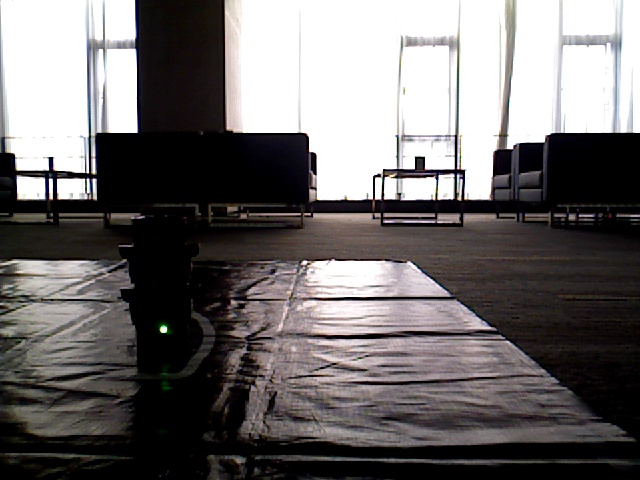green: (144, 216, 187, 355)
